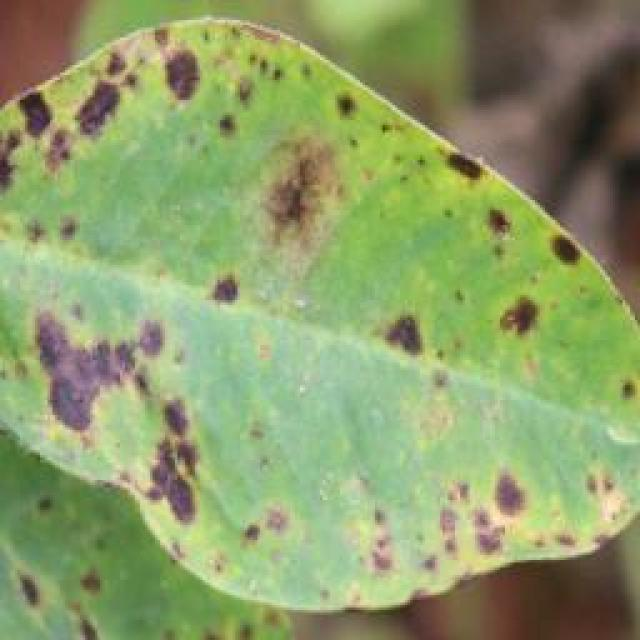Yellowish: (0, 18, 640, 601)
